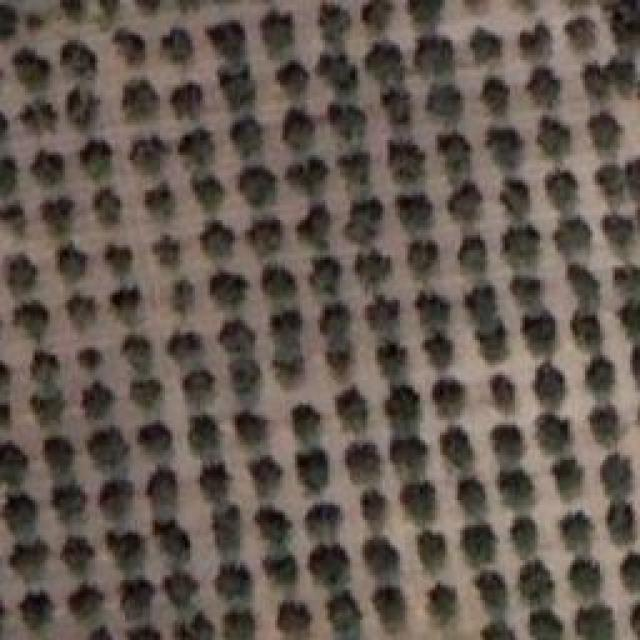Tree: (30, 350, 65, 425), (320, 304, 354, 378), (270, 310, 304, 383), (98, 525, 148, 571), (380, 385, 427, 430), (328, 387, 372, 434), (7, 538, 53, 582), (470, 573, 513, 620), (585, 58, 635, 98), (300, 498, 345, 542), (341, 440, 384, 485), (135, 417, 177, 462), (218, 62, 257, 110), (365, 295, 410, 336), (355, 483, 393, 531), (545, 160, 581, 210), (345, 198, 383, 244), (390, 435, 428, 481), (290, 400, 328, 446), (518, 560, 554, 608), (563, 260, 604, 302), (600, 205, 639, 249), (438, 134, 472, 184), (328, 590, 362, 640), (425, 375, 466, 416), (365, 40, 404, 83), (600, 452, 633, 502), (88, 428, 129, 468), (570, 310, 609, 352), (285, 158, 328, 196), (502, 225, 540, 268), (293, 450, 331, 493), (245, 498, 288, 536), (260, 10, 293, 59), (298, 203, 332, 250), (12, 48, 50, 90), (533, 363, 566, 411), (373, 585, 407, 631), (130, 135, 169, 175), (310, 545, 349, 585), (148, 468, 178, 519), (318, 55, 358, 93), (240, 167, 278, 207), (475, 318, 508, 364), (373, 341, 408, 384), (523, 310, 558, 353), (553, 218, 592, 256), (423, 330, 460, 370), (123, 80, 159, 121), (15, 300, 50, 342), (448, 183, 483, 225), (100, 480, 135, 522), (155, 520, 190, 562), (68, 88, 102, 131), (250, 455, 284, 498), (415, 38, 454, 75), (398, 192, 434, 232), (528, 68, 563, 109), (463, 525, 497, 567), (198, 460, 232, 502), (393, 140, 426, 183), (440, 428, 473, 471), (610, 0, 640, 47), (602, 500, 634, 544), (177, 128, 215, 165), (263, 545, 298, 585), (120, 578, 154, 619), (410, 295, 451, 329), (230, 118, 263, 160), (553, 458, 586, 500), (363, 538, 399, 576), (225, 358, 261, 396), (210, 272, 249, 307), (80, 140, 114, 180), (485, 128, 519, 168), (538, 415, 572, 455), (595, 162, 625, 207), (493, 425, 524, 468), (428, 583, 459, 626), (215, 563, 251, 600), (248, 218, 283, 256), (53, 483, 88, 521), (588, 113, 623, 151), (20, 98, 59, 132), (5, 494, 38, 534), (63, 537, 96, 577), (568, 557, 601, 597), (212, 505, 240, 552), (330, 103, 365, 140), (165, 573, 200, 610), (20, 593, 55, 630), (510, 270, 548, 304), (590, 405, 620, 448), (503, 470, 535, 510), (68, 585, 104, 620), (355, 250, 391, 285), (170, 82, 203, 120), (520, 23, 553, 61), (538, 118, 571, 156), (403, 485, 436, 523), (63, 42, 98, 77), (210, 28, 246, 62), (83, 383, 116, 420), (418, 530, 447, 572), (0, 443, 28, 486), (58, 242, 88, 282), (585, 355, 615, 395), (190, 415, 216, 461), (123, 335, 152, 376), (183, 370, 216, 406), (465, 285, 498, 321), (110, 288, 141, 326), (205, 223, 236, 261), (560, 513, 591, 551), (33, 150, 66, 185), (278, 62, 311, 97), (470, 27, 503, 62), (220, 320, 253, 355), (577, 607, 612, 640), (565, 17, 598, 52), (192, 175, 222, 213), (285, 110, 315, 148), (8, 255, 38, 293), (235, 413, 269, 446), (428, 85, 462, 118), (612, 260, 640, 300), (145, 183, 175, 220), (65, 293, 95, 330), (500, 180, 529, 218), (265, 268, 298, 301), (278, 603, 312, 635), (163, 27, 194, 62), (383, 88, 412, 125), (323, 3, 349, 44), (457, 235, 485, 273), (113, 30, 143, 65), (45, 200, 75, 235), (408, 240, 438, 275), (93, 188, 122, 224), (363, 0, 394, 33), (310, 260, 339, 295), (482, 78, 510, 114), (513, 517, 538, 557), (173, 615, 213, 640), (530, 610, 563, 640), (152, 235, 180, 270), (617, 548, 640, 590), (168, 333, 202, 361), (45, 440, 71, 475), (458, 480, 484, 515), (224, 610, 254, 640), (105, 245, 133, 277), (340, 155, 368, 186), (0, 155, 18, 202), (495, 375, 516, 415), (408, 0, 444, 23), (130, 383, 160, 410), (173, 280, 196, 315), (57, 0, 91, 23), (123, 620, 156, 640), (475, 625, 518, 640), (622, 300, 640, 335), (0, 5, 18, 38), (0, 207, 22, 233), (78, 348, 103, 370), (86, 621, 112, 640), (0, 360, 14, 392)
